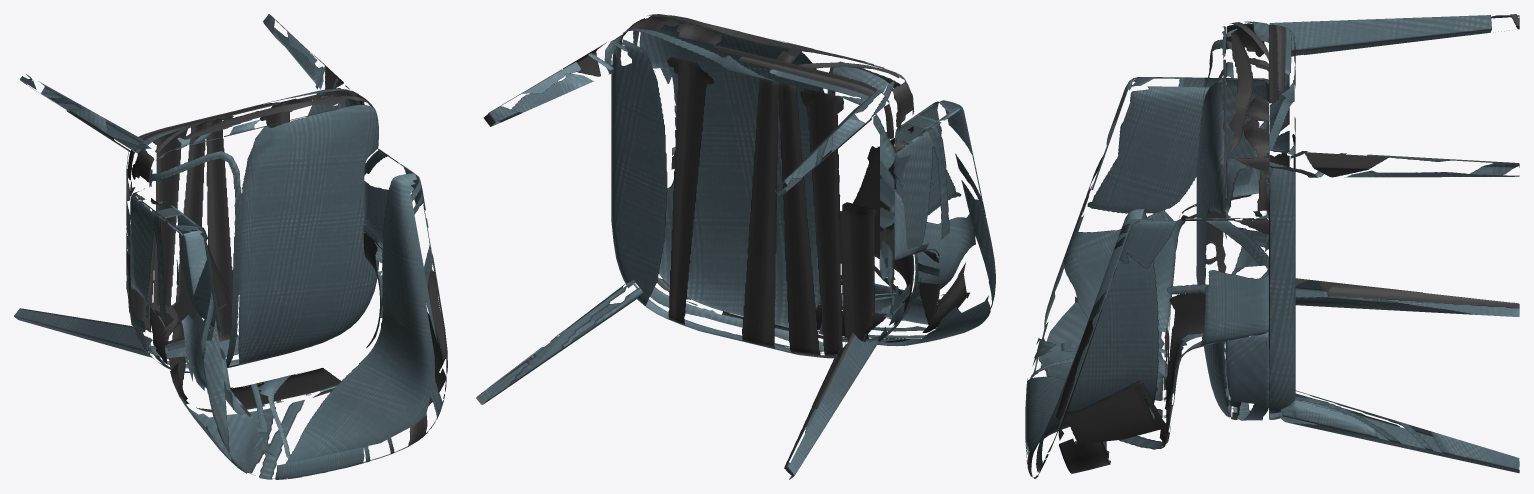
The picture shows the model from 3 angles, left to right: view 1: azimuth 30°, elevation 25°; view 2: azimuth 150°, elevation 25°; view 3: azimuth 270°, elevation 25°; orthographic projection. The views are drawn at different scales.
Size of the model in its own units: 0.6 by 0.6309 by 0.7742.
